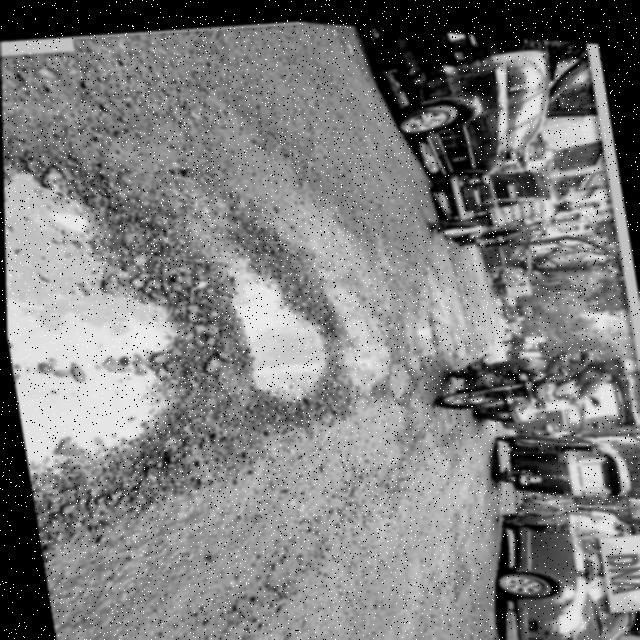pothole: (2, 148, 230, 493), (217, 246, 353, 412), (348, 316, 432, 411)
